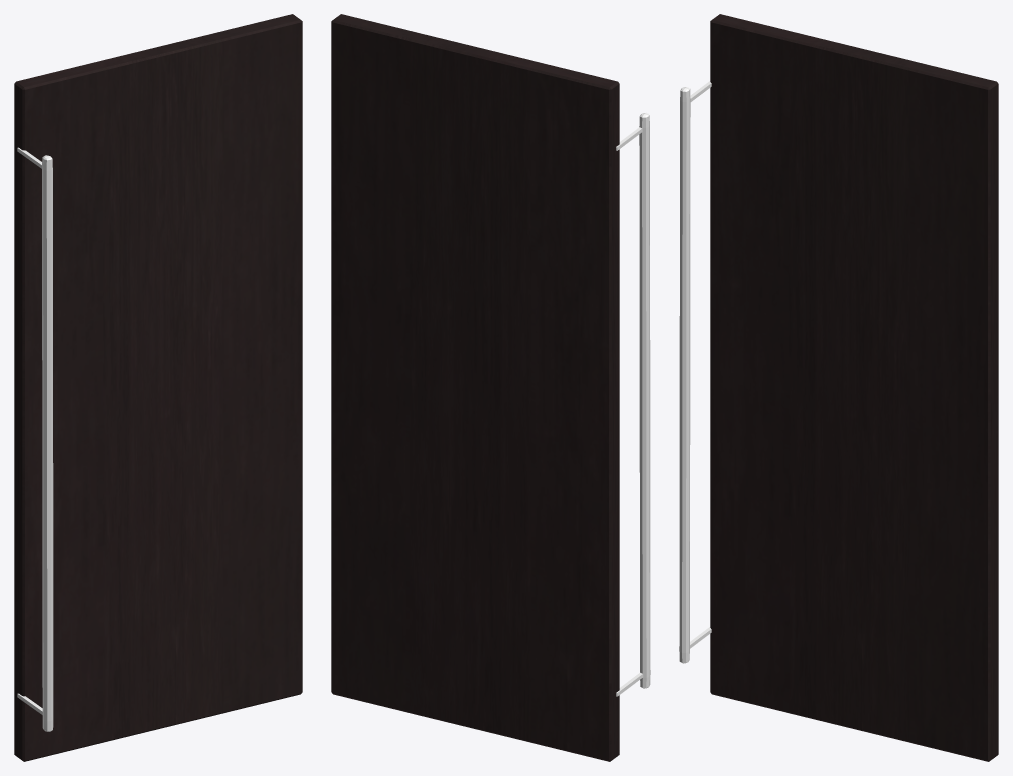
File: Cabinet_ef4f82b2.obj
3 views of the same model, side by side, from view 1: azimuth 30°, elevation 25°; view 2: azimuth 150°, elevation 25°; view 3: azimuth 330°, elevation 25° (orthographic).
Parts seen in each view (by area): view 1: DoorMesh_01_146778ca, CabineDoorHandle1_(9)_01_e7beaa19; view 2: DoorMesh_01_146778ca, CabineDoorHandle1_(9)_01_e7beaa19; view 3: DoorMesh_01_146778ca, CabineDoorHandle1_(9)_01_e7beaa19.
Boxes of the visible parts, x1,y1,x2,y2 form: DoorMesh_01_146778ca: [14, 14, 302, 761]; CabineDoorHandle1_(9)_01_e7beaa19: [17, 147, 53, 731]; DoorMesh_01_146778ca: [331, 14, 619, 761]; CabineDoorHandle1_(9)_01_e7beaa19: [616, 113, 650, 696]; DoorMesh_01_146778ca: [710, 14, 998, 761]; CabineDoorHandle1_(9)_01_e7beaa19: [679, 81, 711, 663].
Size of the model in its own units: 0.3309 by 0.75 by 0.0755.
